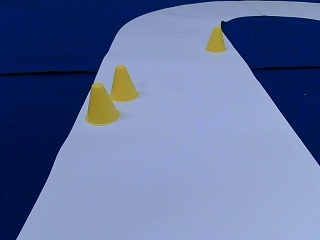cone: (86, 84, 119, 124), (109, 66, 139, 101), (205, 26, 226, 52)
